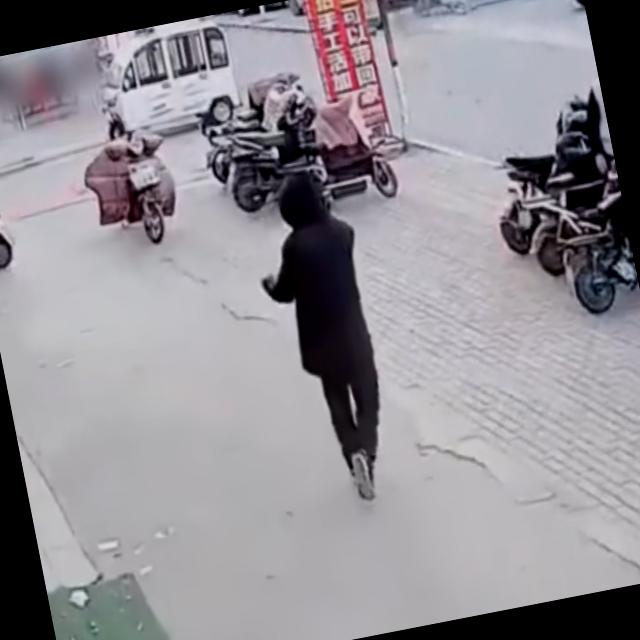person: (241, 165, 404, 511)
